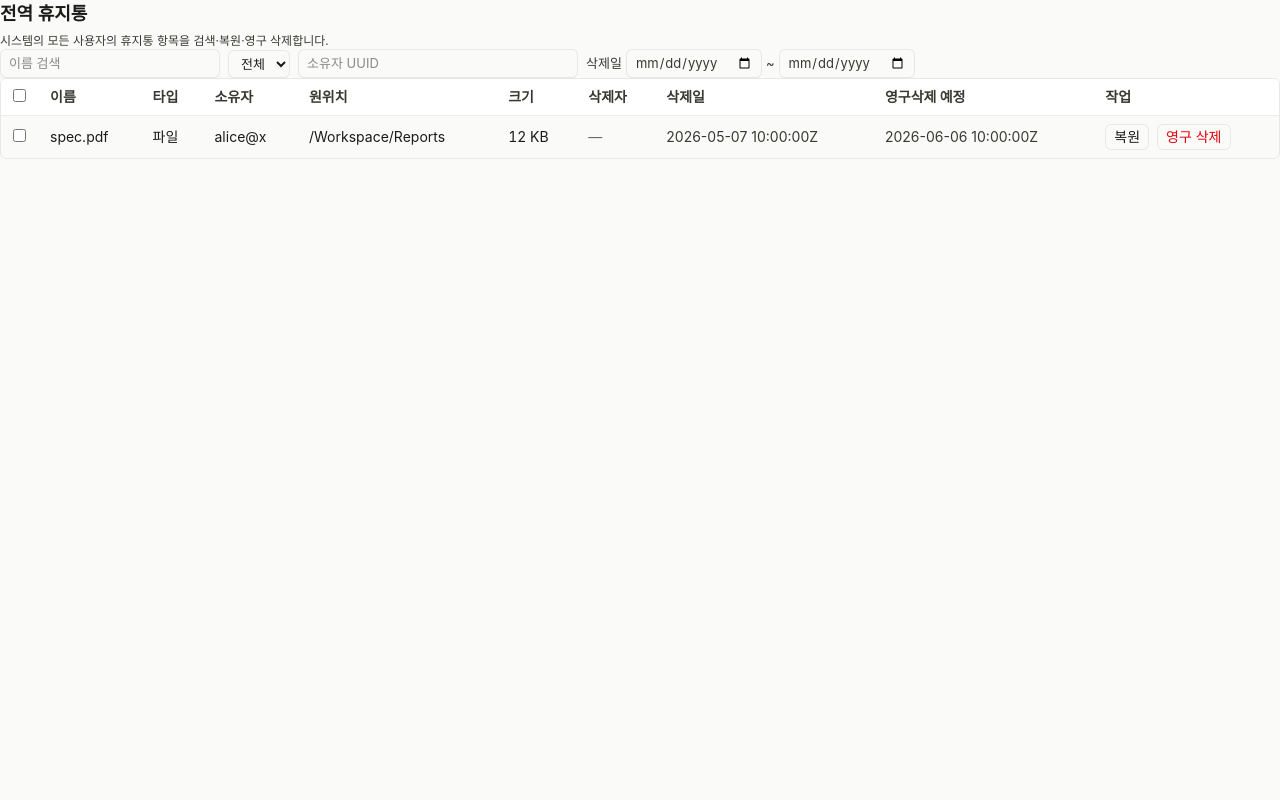
Test: /admin/trash/all › opens ConfirmDialog on purge click
The image size is (1280, 800).
What coordinates should you click on to do the following:
click the button "영구 삭제"
I would click on:
 (1194, 137)
Its box is [1157,124,1230,150].
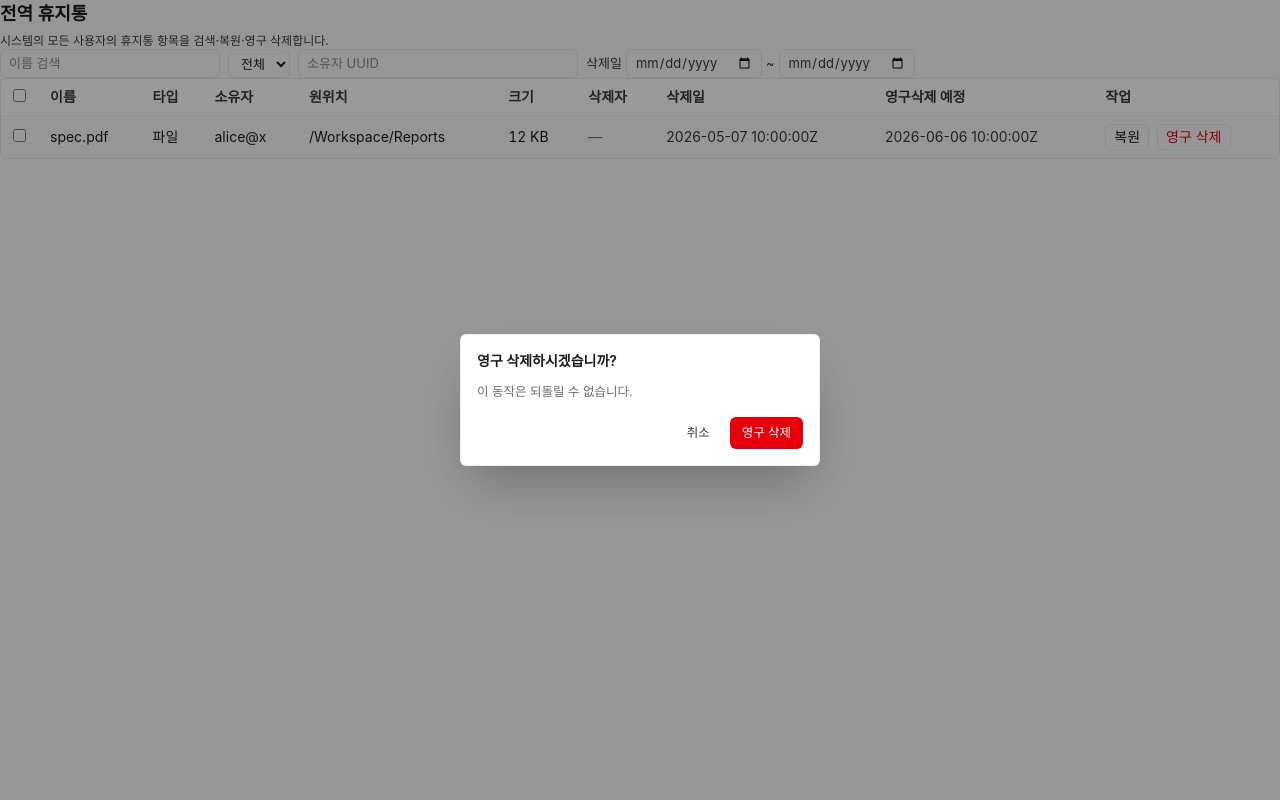
Check: the text "이 동작은 되돌릴 수 없습니다." is shown, box [477,384,633,399]
